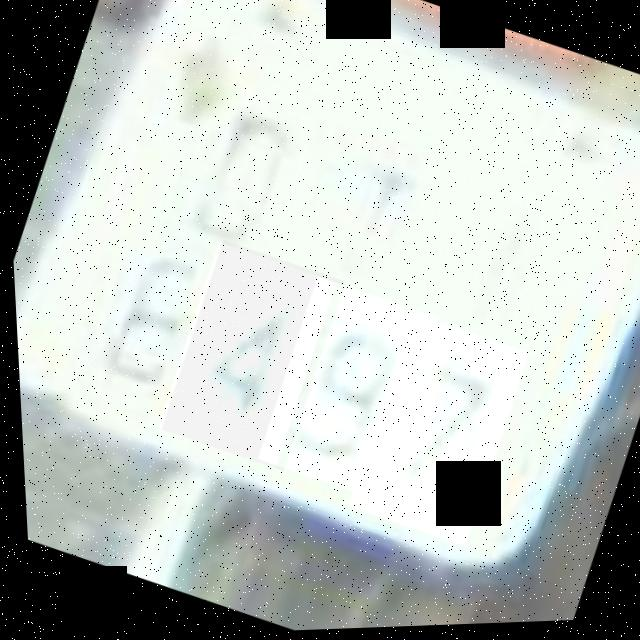4: (145, 241, 340, 474)
7: (334, 312, 533, 554)
8: (149, 238, 350, 477), (245, 275, 443, 507)
O: (145, 55, 329, 282)
